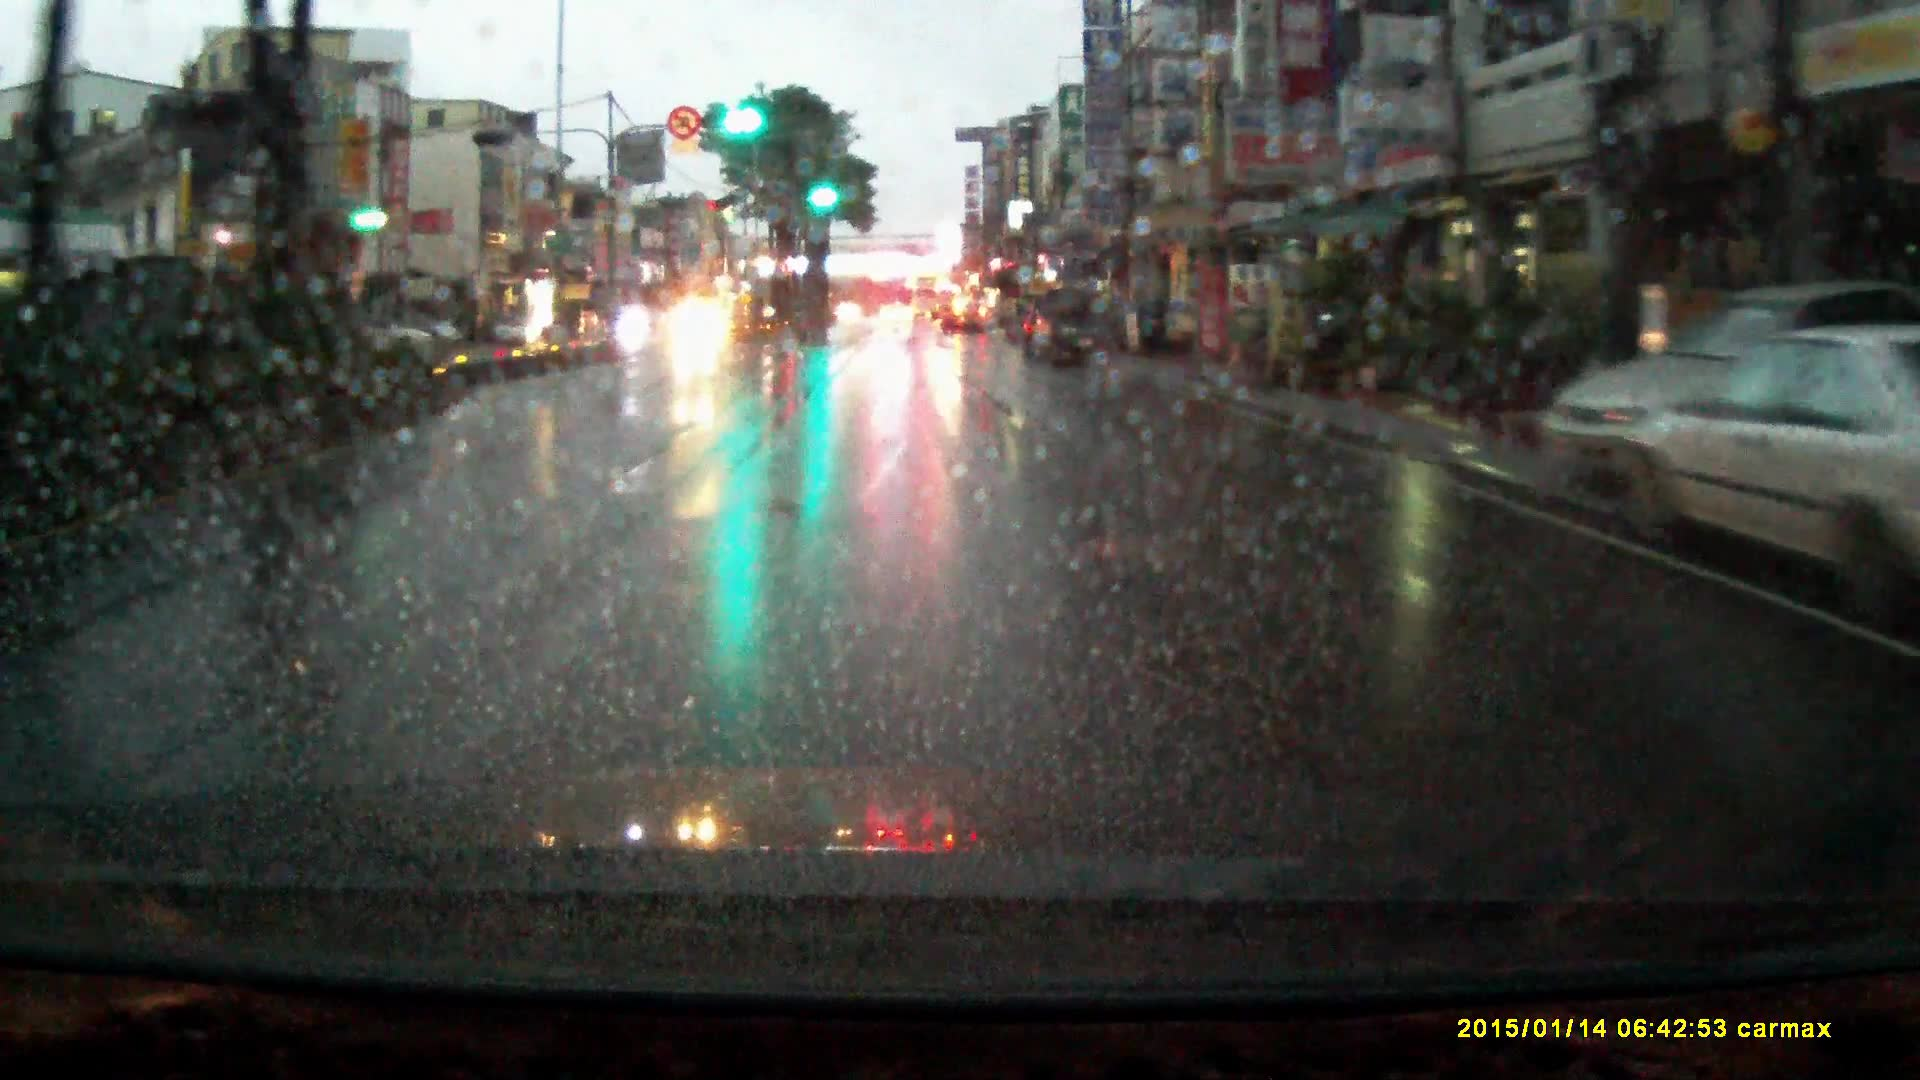vehicle: (1621, 334, 1909, 626), (1532, 280, 1896, 506), (1018, 284, 1102, 368), (667, 301, 736, 351), (595, 302, 658, 342), (491, 309, 550, 345), (942, 295, 989, 335), (910, 276, 943, 320), (880, 302, 916, 326)
